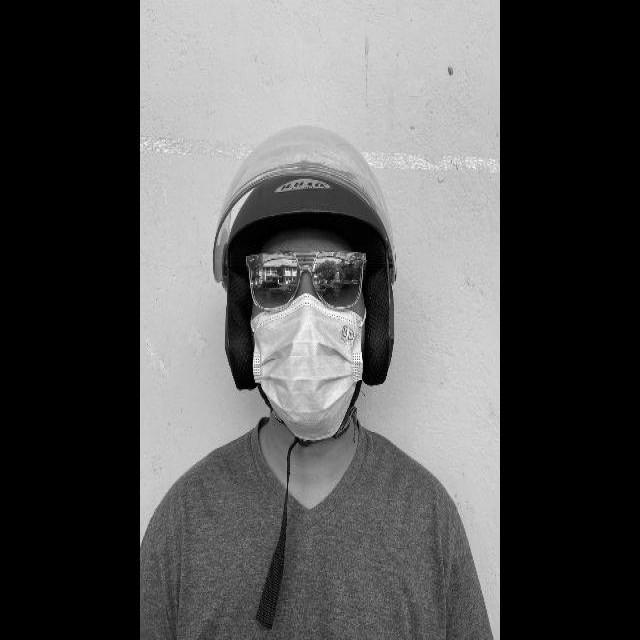5_casco: (212, 123, 398, 389)
